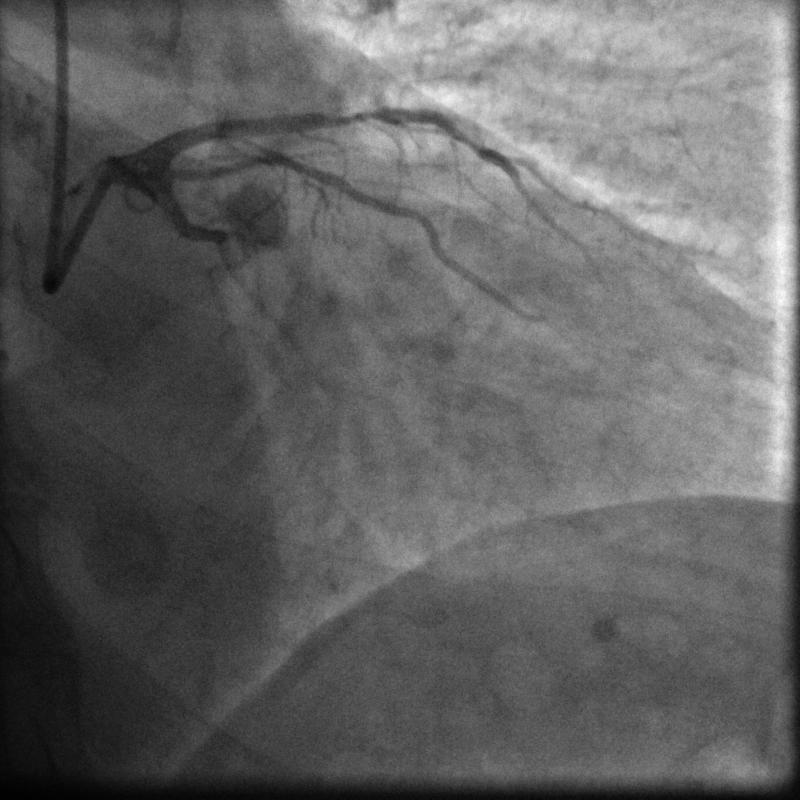Stenosis: (323, 104, 386, 128)
